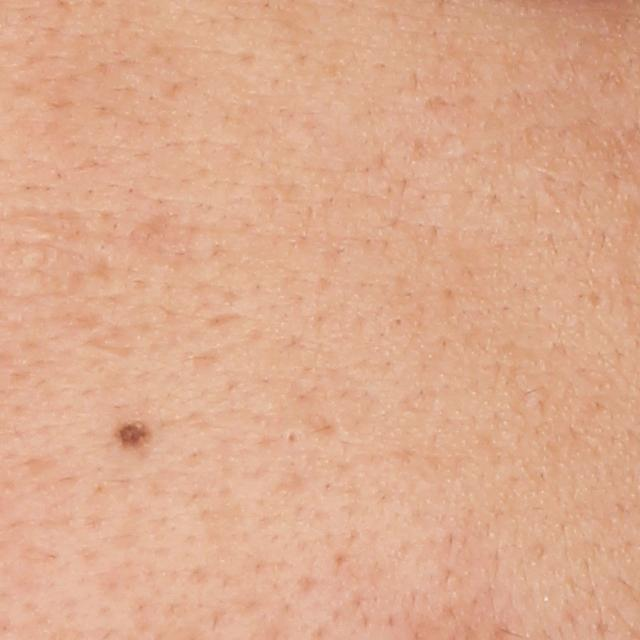comedo: (278, 424, 306, 444)
nevus: (109, 417, 157, 450)
